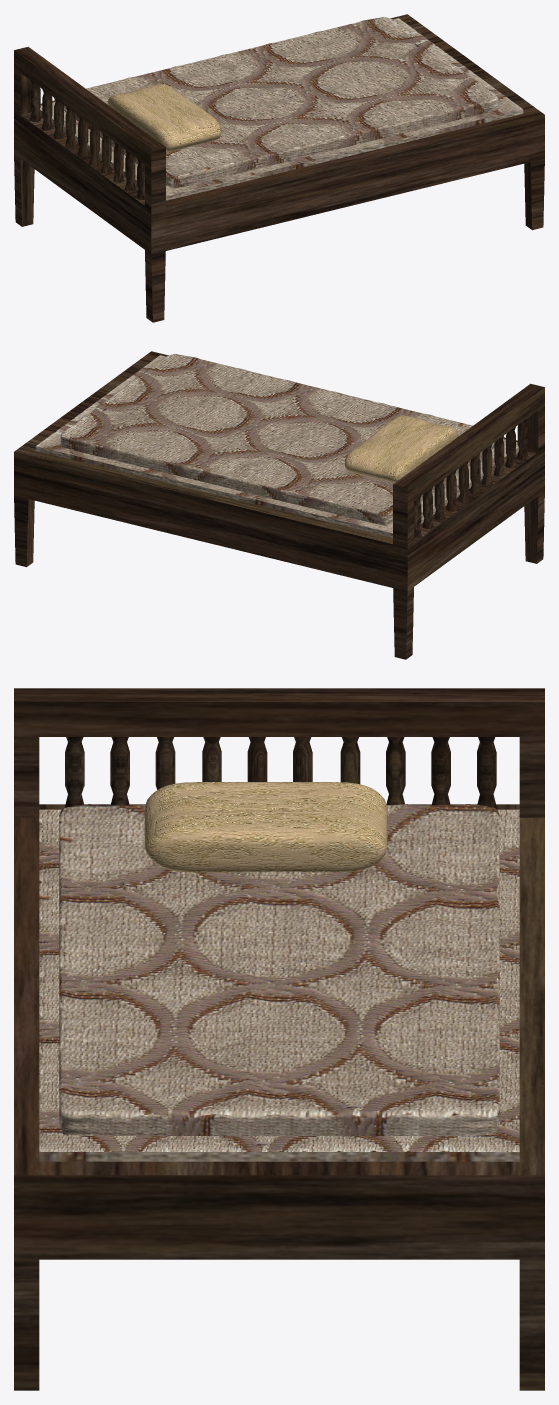
Rendered from bed 3AR.glb.
3 views of the same model, one above another, from view 1: azimuth 30°, elevation 25°; view 2: azimuth 150°, elevation 25°; view 3: azimuth 270°, elevation 25° (orthographic). The views are drawn at different scales.
Visible parts, largest first — view 1: polySurface2; view 2: polySurface2; view 3: polySurface2.
Part boxes in pixels (left/top/right/bottom): polySurface2: left=14, top=14, right=544, bottom=322; polySurface2: left=14, top=351, right=544, bottom=659; polySurface2: left=14, top=688, right=544, bottom=1390.
Size of the model in its own units: 0.192 by 0.0803 by 0.1161.
Materials: 3 (3 with a texture image).
